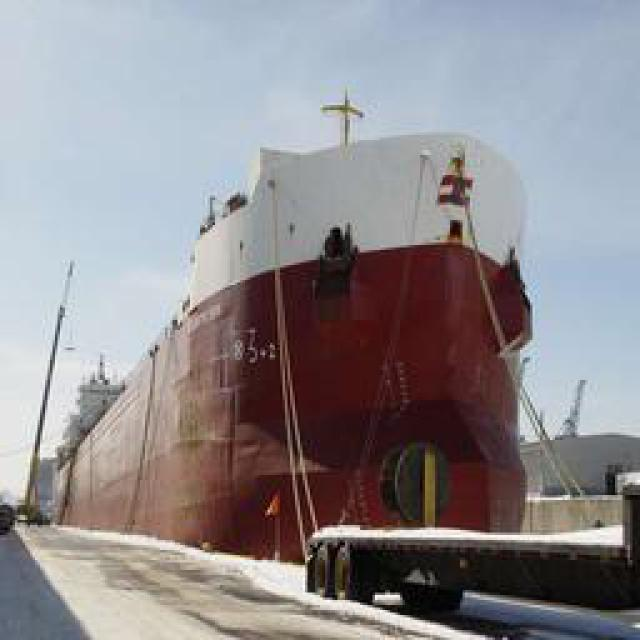Ship: (56, 109, 579, 614)
